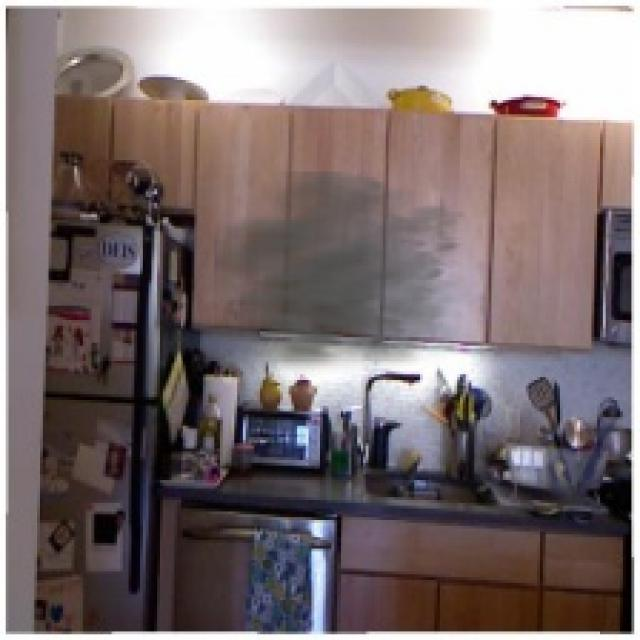smoke: (215, 171, 494, 380)
